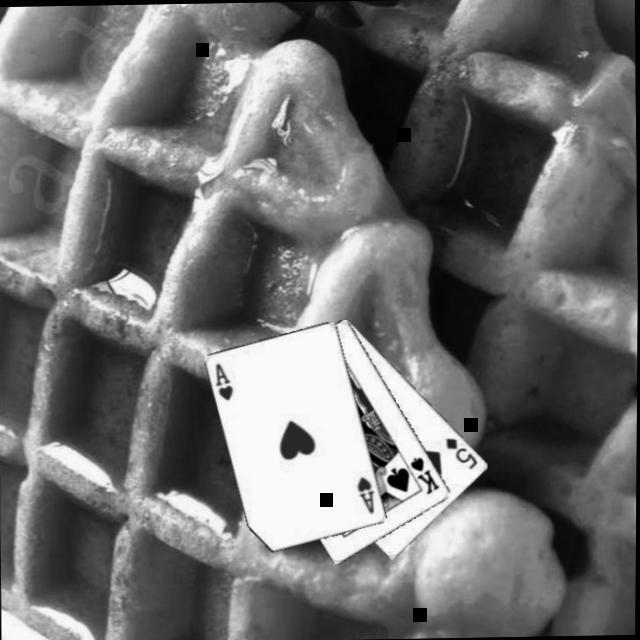5D: (442, 434, 481, 473)
AH: (212, 361, 235, 404), (354, 474, 376, 516)
KS: (406, 454, 442, 497)
